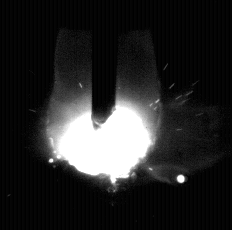arame: (92, 0, 117, 130)
poca: (46, 0, 158, 230)
